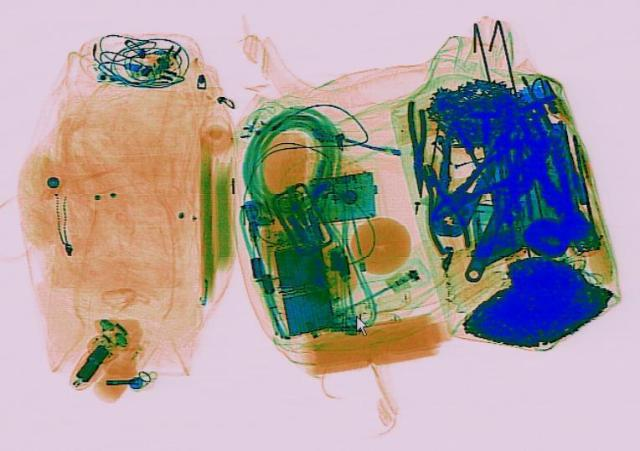Pliers: (418, 116, 508, 239), (406, 160, 476, 253), (404, 98, 431, 195)
